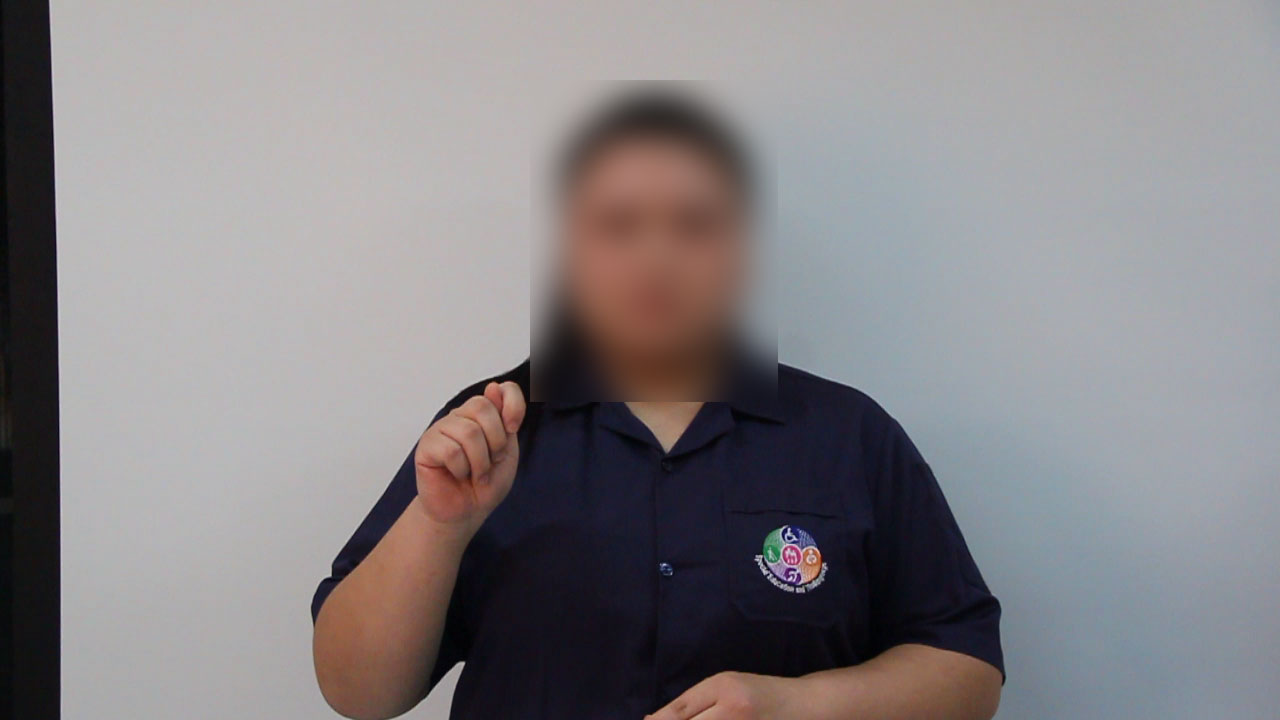tor: (402, 365, 538, 543)
